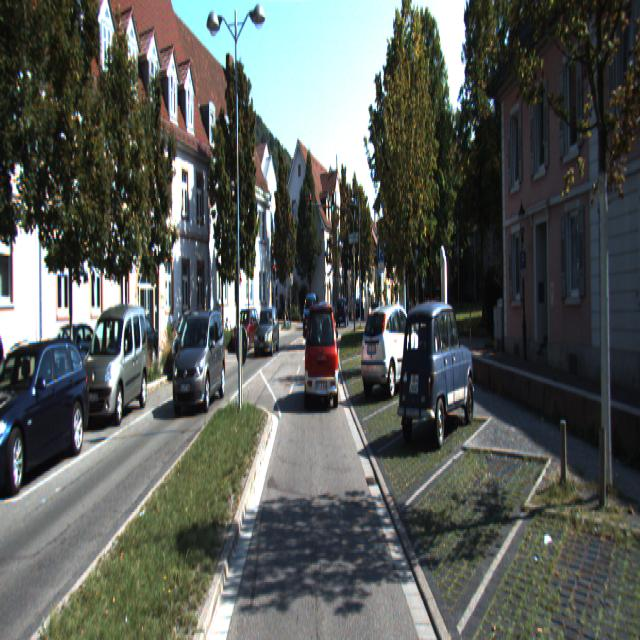Car: (0, 333, 89, 498), (396, 300, 477, 456), (80, 305, 149, 432), (170, 312, 227, 418), (360, 302, 424, 396), (306, 306, 340, 413), (108, 312, 160, 381), (171, 308, 214, 378), (252, 307, 280, 357), (231, 311, 261, 355), (302, 292, 316, 328), (336, 297, 349, 328)
